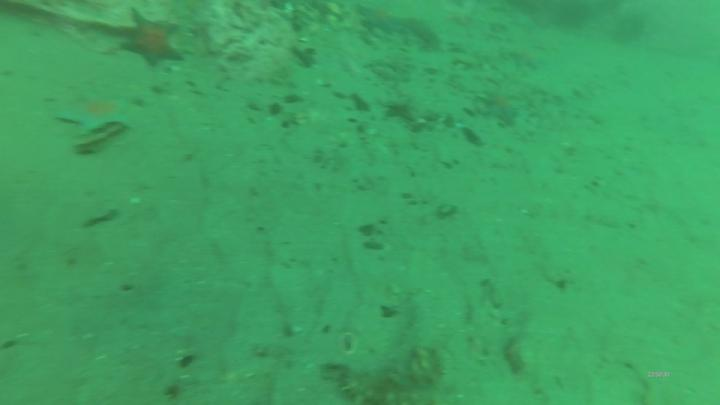holothurian: (338, 338, 460, 405)
starfish: (53, 85, 142, 139), (120, 7, 187, 71), (355, 4, 406, 38), (478, 88, 521, 127), (508, 45, 546, 73)
